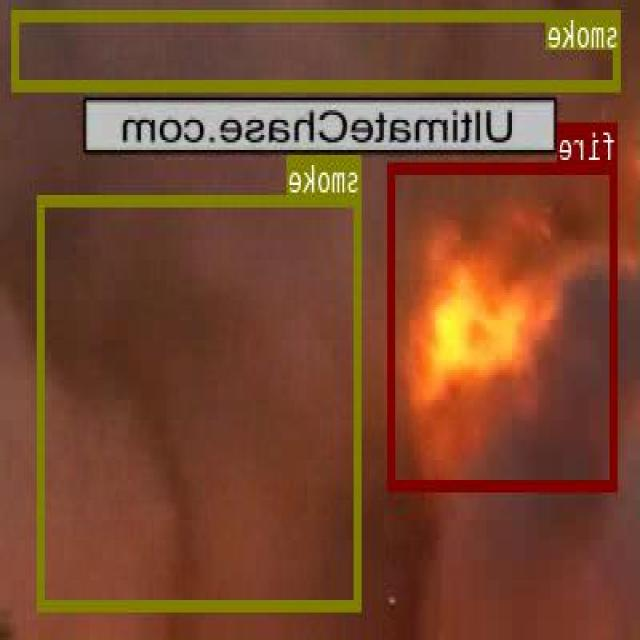fire: (389, 161, 619, 489)
smoke: (39, 193, 362, 608), (14, 8, 621, 88)
